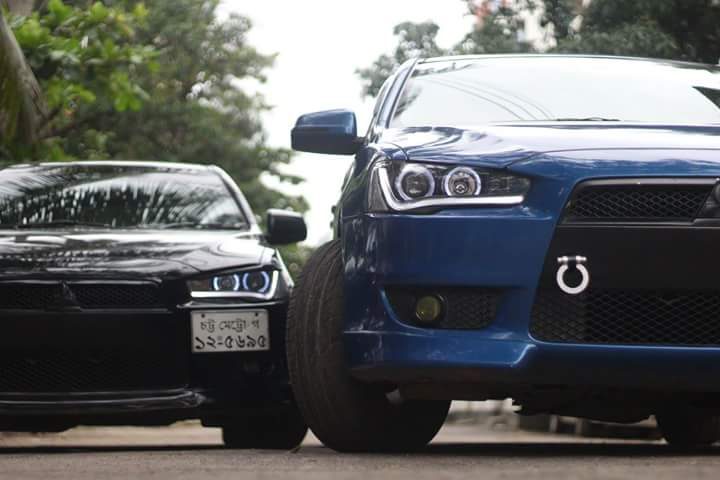registration_plate: (190, 309, 270, 352)
